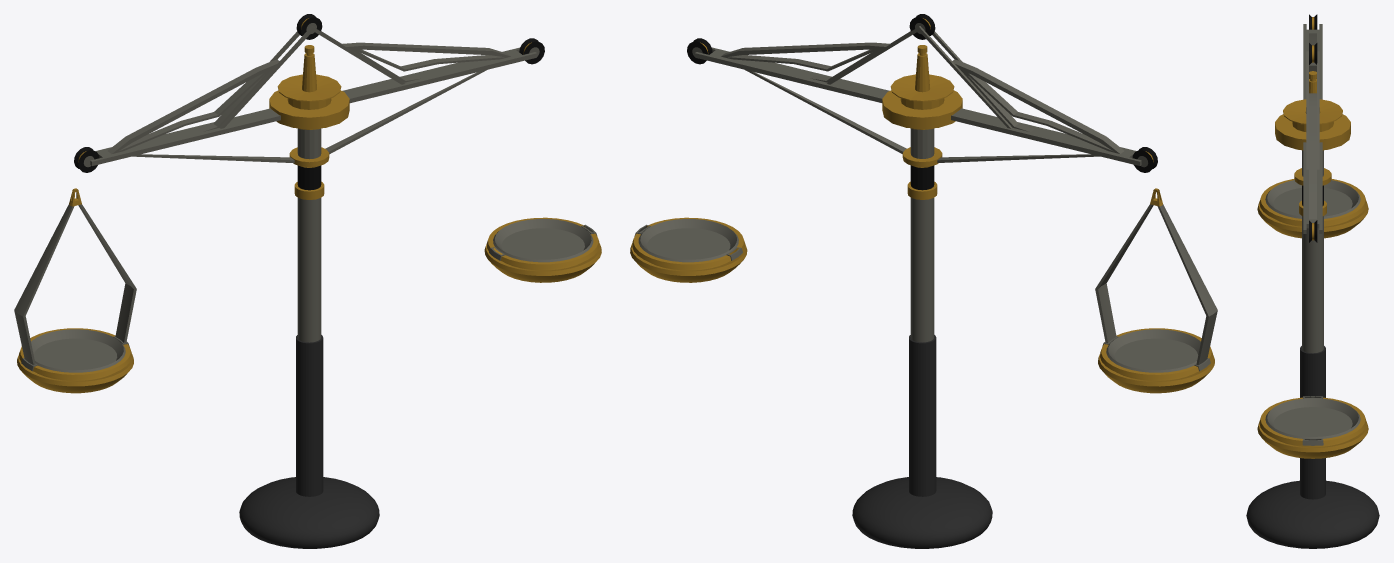
The model's file is Scale.FBX.
3 renders of one model, left to right at view 1: azimuth 30°, elevation 25°; view 2: azimuth 150°, elevation 25°; view 3: azimuth 270°, elevation 25°, orthographic. The views are drawn at different scales.
Parts seen in each view (by area): view 1: Sphere002, Cylinder002, balança, Box003, balança001, Box002, Box001; view 2: Sphere002, Cylinder002, balança, Box003, balança001, Box002, Box001; view 3: Sphere002, Cylinder002, balança001, balança, Box003, Box002, Cylinder006.
Boxes of the visible parts, left/top/right/bottom form: Sphere002: left=239, top=335, right=379, bottom=548; Cylinder002: left=269, top=45, right=349, bottom=342; balança: left=14, top=188, right=136, bottom=393; Box003: left=108, top=26, right=510, bottom=153; balança001: left=484, top=217, right=601, bottom=282; Box002: left=90, top=47, right=536, bottom=165; Box001: left=132, top=70, right=486, bottom=163; Sphere002: left=852, top=335, right=992, bottom=548; Cylinder002: left=882, top=45, right=962, bottom=342; balança: left=1095, top=188, right=1217, bottom=393; Box003: left=721, top=26, right=1124, bottom=153; balança001: left=630, top=217, right=747, bottom=282; Box002: left=695, top=47, right=1141, bottom=165; Box001: left=745, top=70, right=1099, bottom=162; Sphere002: left=1246, top=346, right=1379, bottom=548; Cylinder002: left=1275, top=71, right=1350, bottom=353; balança001: left=1257, top=396, right=1368, bottom=458; balança: left=1257, top=179, right=1368, bottom=238; Box003: left=1306, top=33, right=1319, bottom=219; Box002: left=1303, top=24, right=1322, bottom=233; Cylinder006: left=1309, top=220, right=1317, bottom=242.
Bounding box in the file's own units: 424 × 355 × 89.52.
